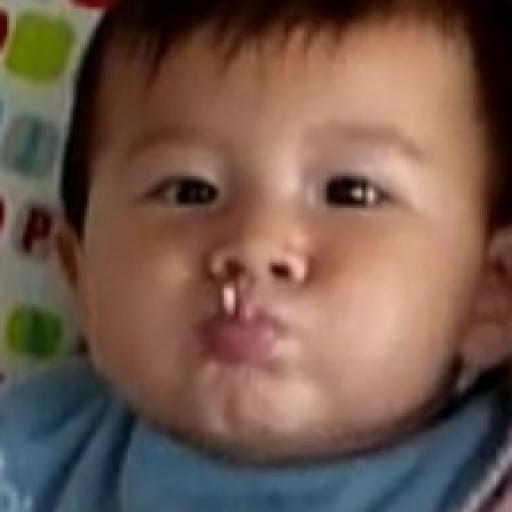Autism: (118, 0, 505, 465)
